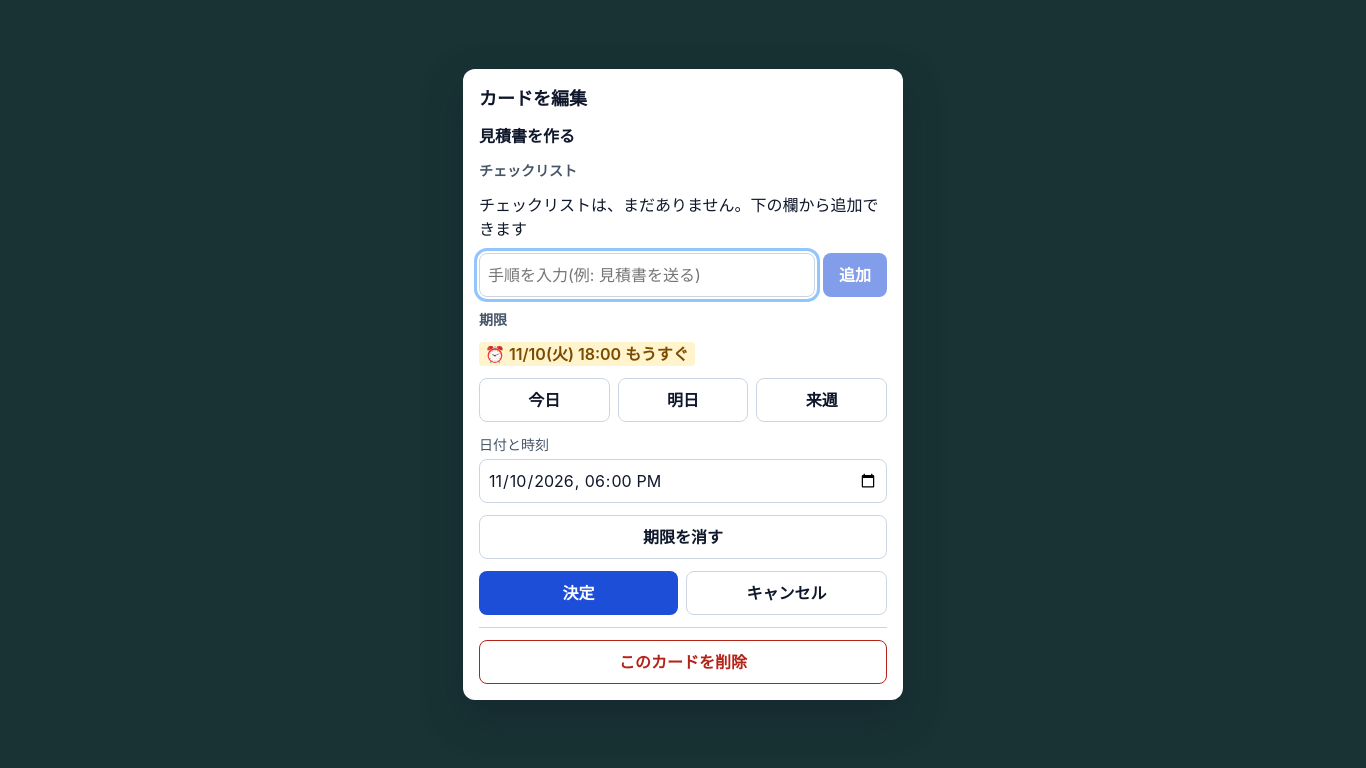
CardEditDialog: 期限の変更 › クイック選択で、日本時間の 18:00 が入る(今日・明日・来週)
Click the button "今日" at (544, 400), box [479,378,610,422]
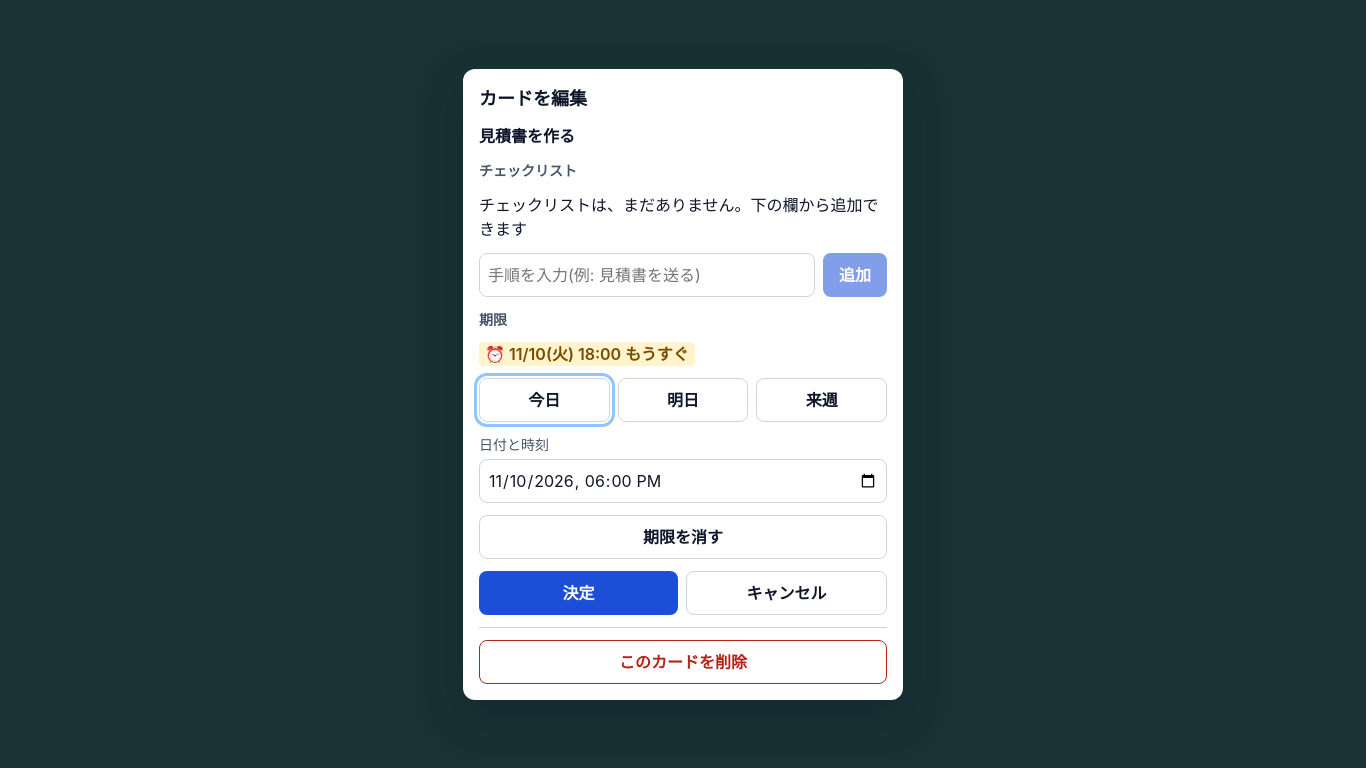
Expected: the field labelled "日付と時刻" holds "2026-11-10T18:00", [479,458,887,502]
Click the button "明日" at (683, 400), box [618,378,748,422]
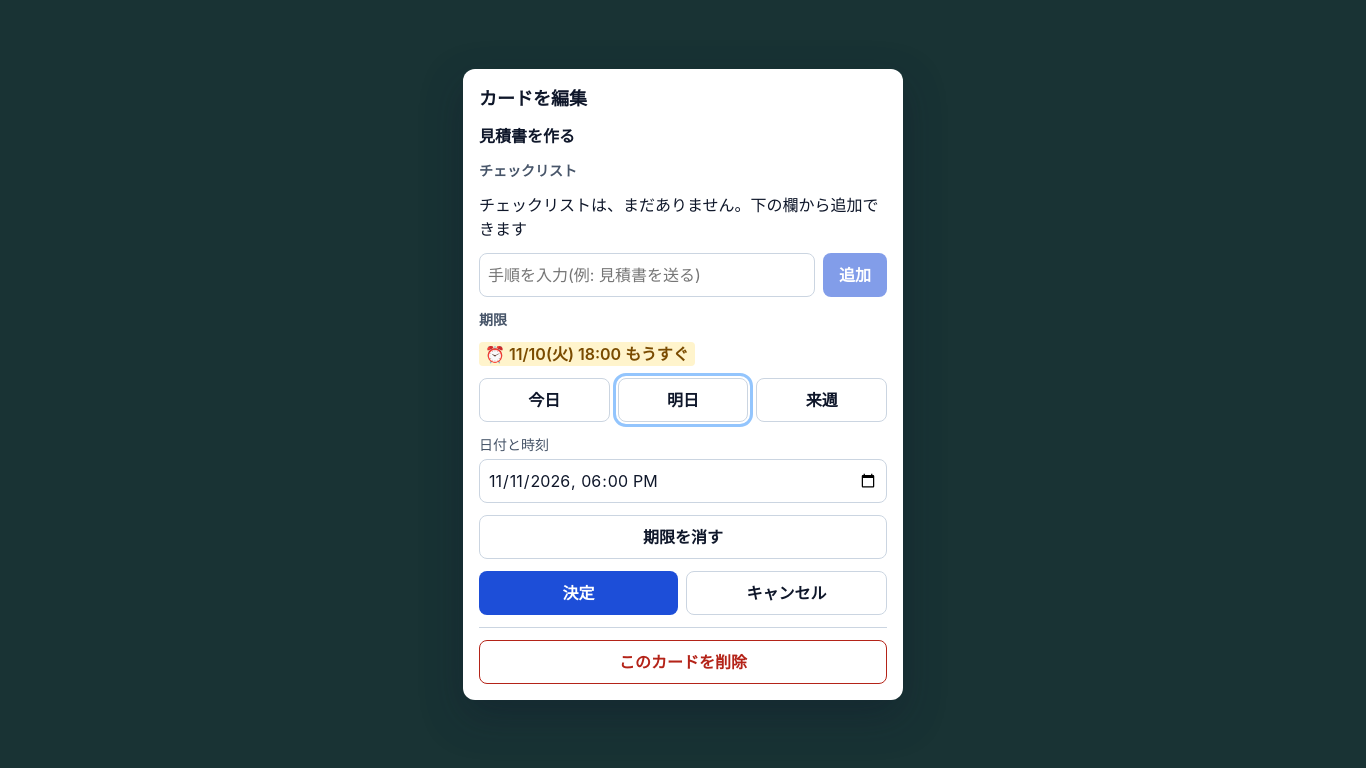
Expected: the field labelled "日付と時刻" holds "2026-11-11T18:00", [479,458,887,502]
Click the button "来週" at (822, 400), box [756,378,887,422]
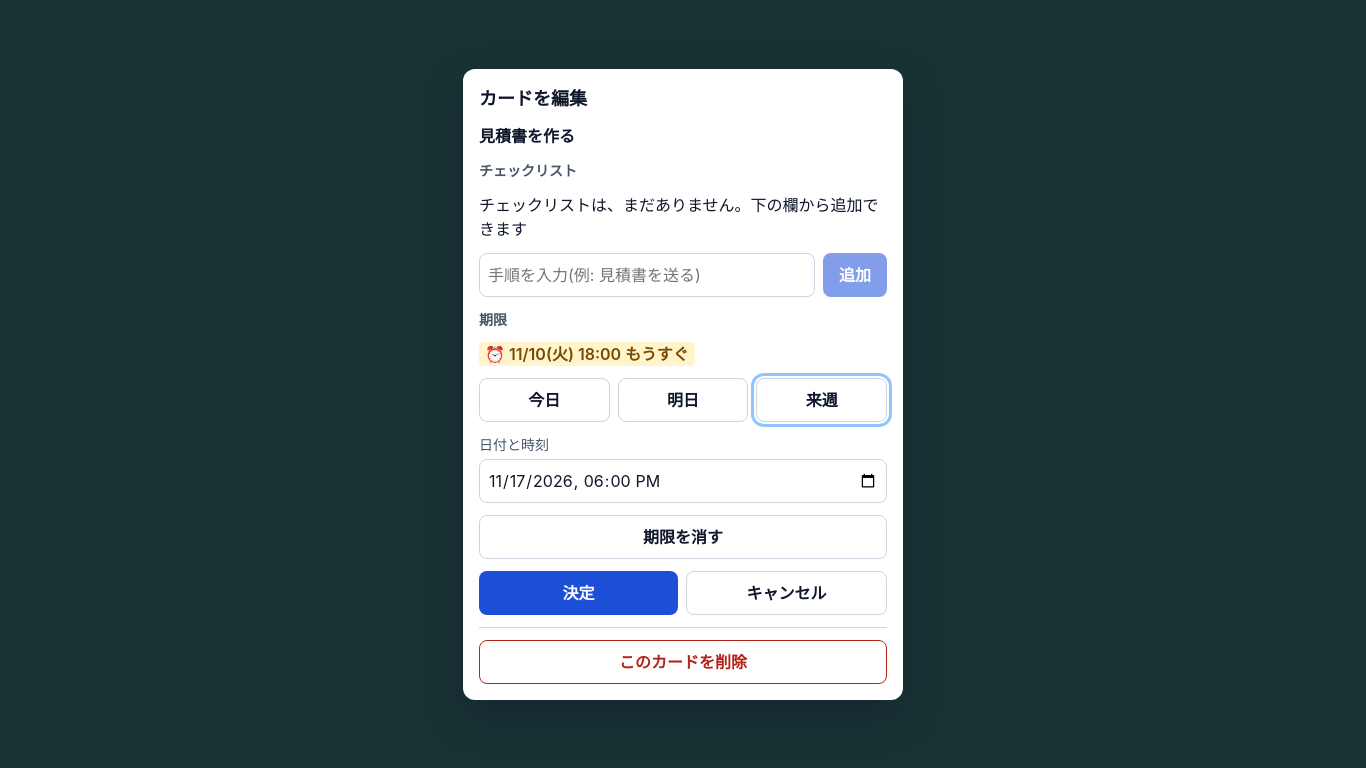
Expected: the field labelled "日付と時刻" holds "2026-11-17T18:00", [479,458,887,502]
